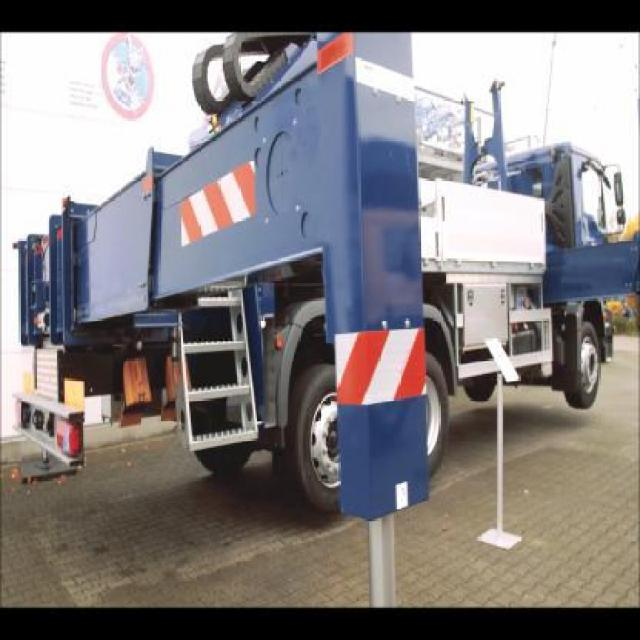Mobile Crane: (7, 1, 640, 524)
